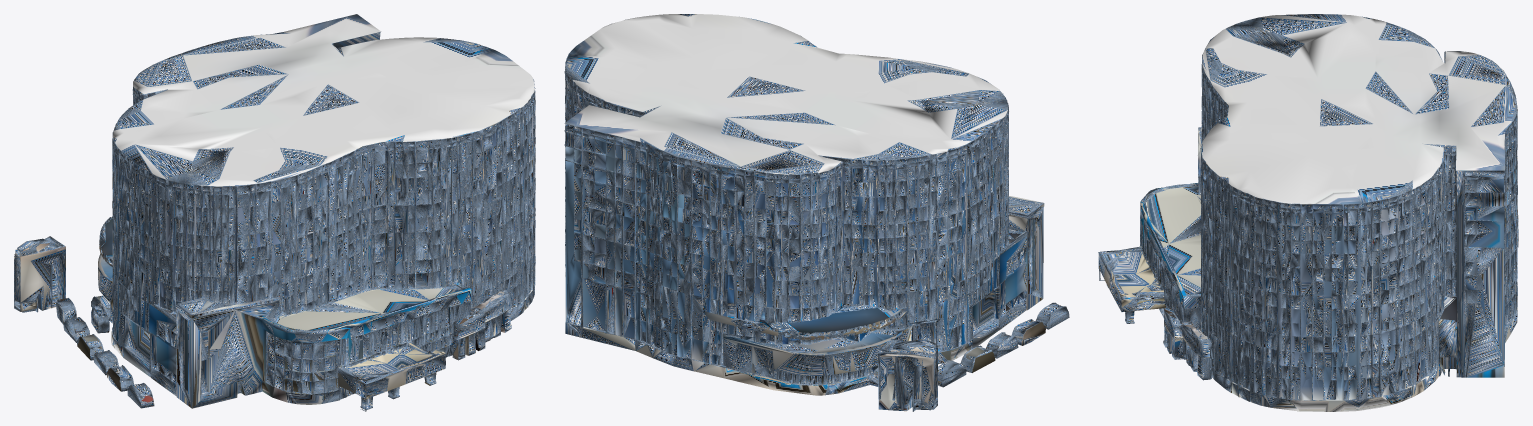
Rendered from construction-09.glb.
The picture shows the model from 3 angles, left to right: view 1: azimuth 30°, elevation 25°; view 2: azimuth 150°, elevation 25°; view 3: azimuth 270°, elevation 25°; orthographic projection. The views are drawn at different scales.
Bounding box in the file's own units: 1.64 × 0.7663 × 1.4.
Materials: 1 (1 with a texture image).
